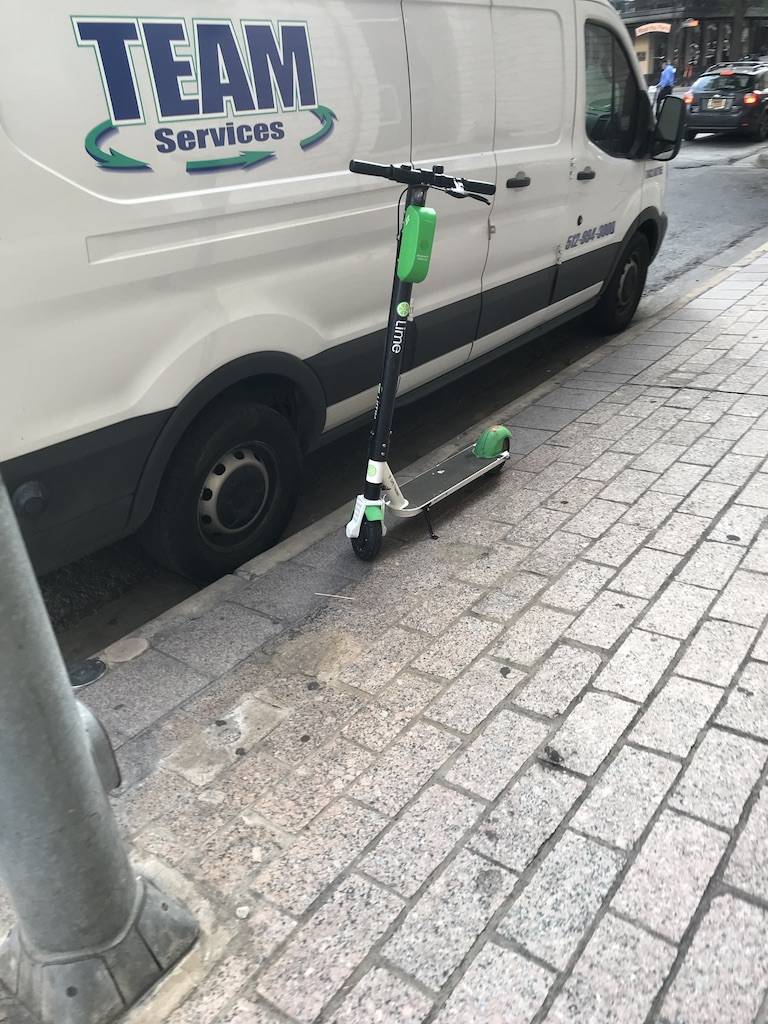scooter: (346, 160, 514, 562)
